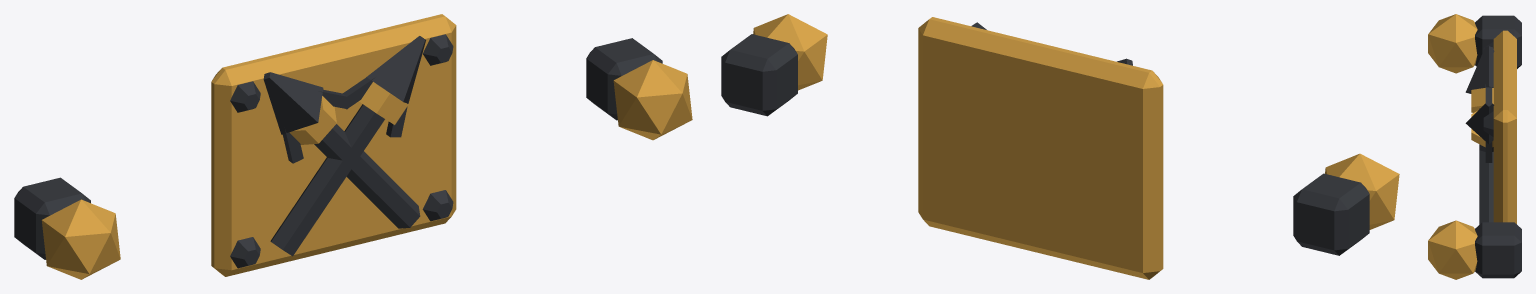
Rendered from HarpoonKit8.obj.
3 renders of one model, left to right at view 1: azimuth 30°, elevation 25°; view 2: azimuth 150°, elevation 25°; view 3: azimuth 270°, elevation 25°, orthographic. The views are drawn at different scales.
Visible parts, largest first — view 1: HarpoonKit8; view 2: HarpoonKit8; view 3: HarpoonKit8.
Part boxes in pixels (box(x1,y1,x2,y2)): HarpoonKit8: box(14, 14, 692, 279); HarpoonKit8: box(721, 14, 1399, 279); HarpoonKit8: box(1428, 14, 1521, 279).
Size of the model in its own units: 0.5826 by 0.18 by 0.0998.
